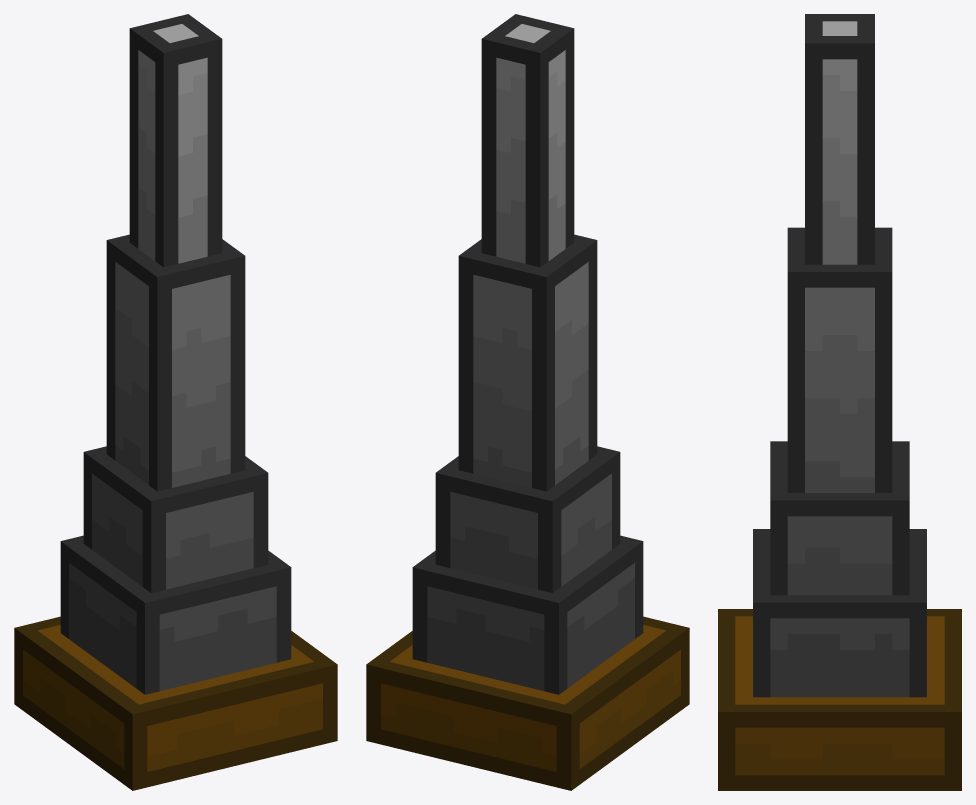
The model's file is Torch Tower.fbx.
3 renders of one model, left to right at view 1: azimuth 30°, elevation 25°; view 2: azimuth 150°, elevation 25°; view 3: azimuth 270°, elevation 25°, orthographic. The views are drawn at different scales.
Parts seen in each view (by area): view 1: Torch Tower; view 2: Torch Tower; view 3: Torch Tower.
Part boxes in pixels (x1=…): Torch Tower: x1=14, y1=14, x2=337, y2=790; Torch Tower: x1=366, y1=14, x2=689, y2=790; Torch Tower: x1=718, y1=14, x2=961, y2=790.
Bounding box in the file's own units: 0.28 × 0.28 × 0.9.
Materials: 1 (1 with a texture image).
